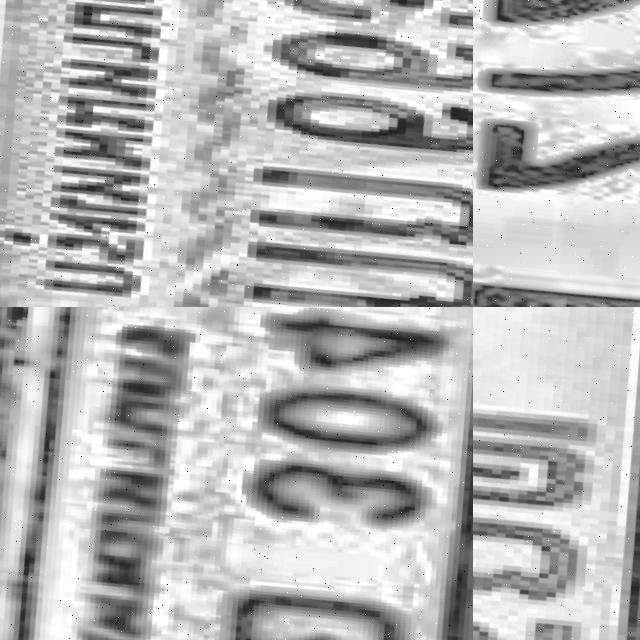license-plate: (0, 307, 473, 640), (0, 0, 473, 307), (473, 307, 640, 640), (473, 0, 640, 307)
